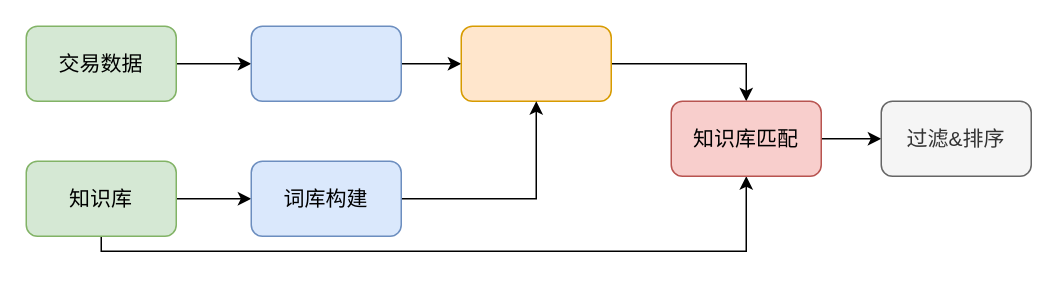
Image size: 1058x290. Some labels were removed from this diagram. Each missing label, with the box of its shape:
关键词提取: (460, 25, 611, 101)
文本清洗: (250, 25, 401, 101)
